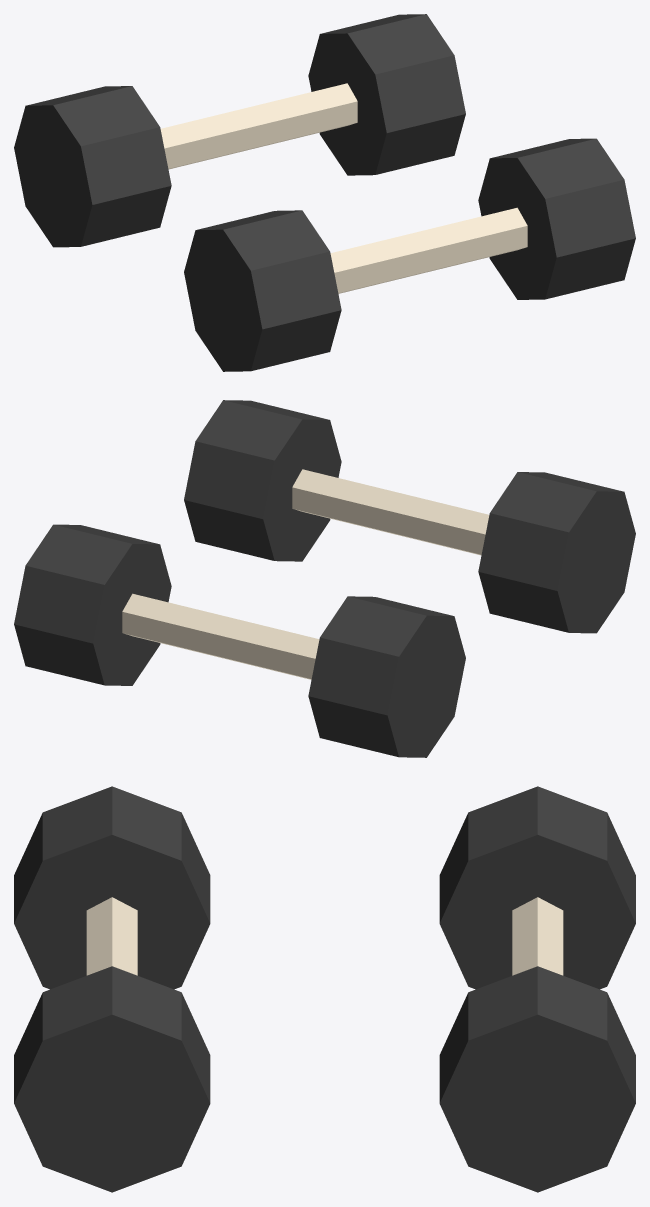
3 renders of one model, top to bottom at view 1: azimuth 30°, elevation 25°; view 2: azimuth 150°, elevation 25°; view 3: azimuth 270°, elevation 25°, orthographic. The views are drawn at different scales.
Parts seen in each view (by area): view 1: Weight, Weight.002, Weight.003, Weight.001, Grip, Grip.001; view 2: Weight.002, Weight, Weight.001, Weight.003, Grip, Grip.001; view 3: Weight.001, Weight.003, Weight, Weight.002, Grip, Grip.001.
Part boxes in pixels (box(x1,y1,x2,y2)): Weight: box(184, 210, 341, 371); Weight.002: box(14, 86, 171, 247); Weight.003: box(308, 14, 465, 175); Weight.001: box(478, 138, 635, 299); Grip: box(330, 207, 527, 293); Grip.001: box(160, 83, 357, 169); Weight.002: box(308, 596, 465, 757); Weight: box(478, 472, 635, 633); Weight.001: box(184, 400, 341, 561); Weight.003: box(14, 524, 171, 685); Grip: box(292, 469, 489, 555); Grip.001: box(122, 593, 319, 679); Weight.001: box(14, 966, 210, 1192); Weight.003: box(439, 966, 635, 1192); Weight: box(14, 786, 210, 989); Weight.002: box(439, 786, 635, 989); Grip: box(86, 897, 137, 975); Grip.001: box(512, 897, 563, 975).
Size of the model in its own units: 0.33 by 0.12 by 0.38.
Materials: 1 (1 with a texture image).
